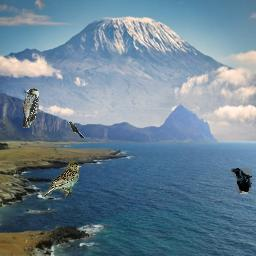Crow: (231, 168, 252, 194)
Cuckoo: (68, 121, 85, 138)
Sparrow: (42, 160, 82, 197)
Woodpecker: (23, 88, 39, 128)
